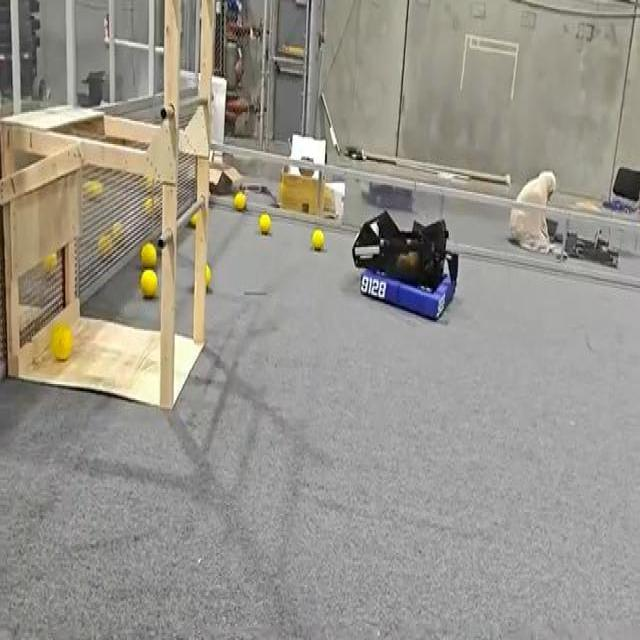Fuel: (50, 324, 72, 359), (140, 269, 158, 297), (140, 268, 157, 297), (140, 243, 157, 268), (140, 242, 156, 266), (84, 180, 102, 198), (42, 252, 58, 272), (98, 233, 112, 254), (311, 229, 324, 251), (233, 190, 246, 210), (258, 213, 270, 233), (111, 222, 123, 242), (259, 213, 271, 233), (234, 192, 246, 210), (143, 196, 153, 212), (189, 213, 198, 228), (205, 265, 211, 284), (189, 214, 197, 228)
